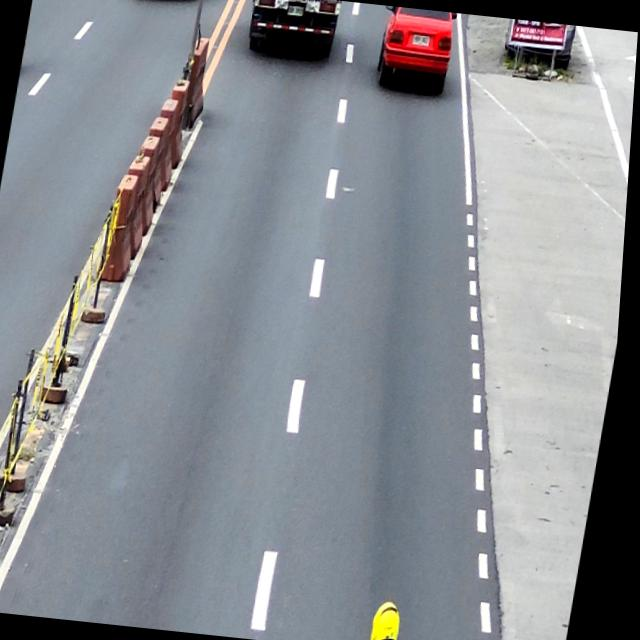Car: (372, 5, 458, 93)
License-Plate: (286, 4, 304, 17), (412, 35, 431, 47)
Truck: (244, 0, 340, 58)
